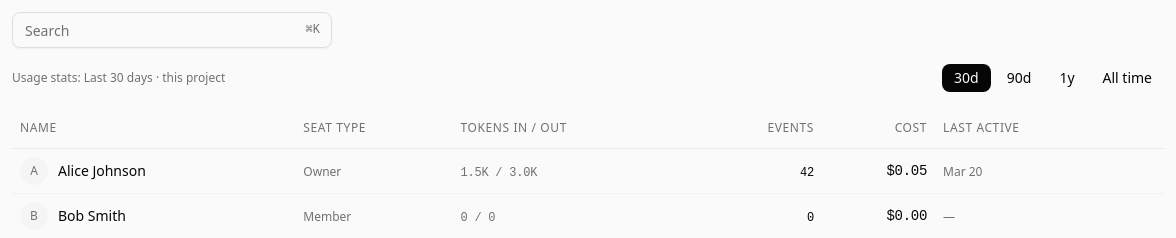
Scenario: ProjectMembersTab › owner view (isProjectOwner=true) › re-queries stats for the selected range when a range button is clicked
Step 1. Click the button "All time" → (1127, 78), box [1090,64,1164,92]
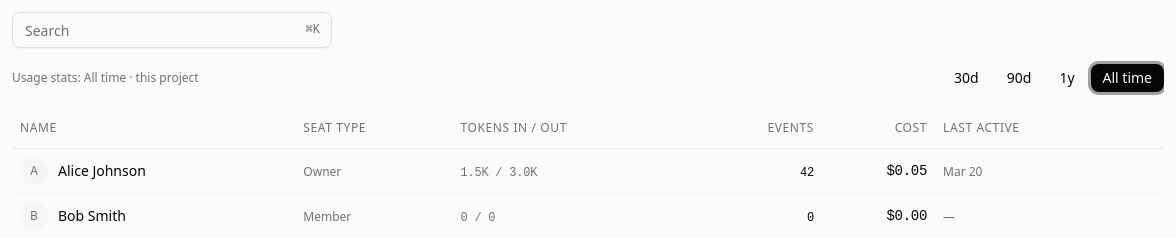
Check: the text "Usage stats: All time · this project" is shown, box [12,69,199,87]
